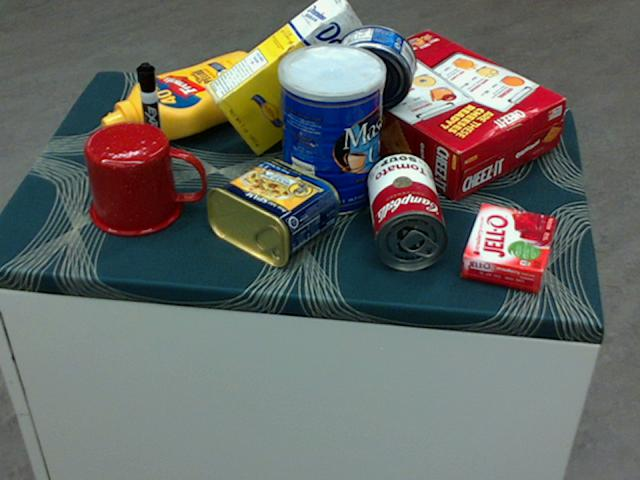cracker_box: (323, 28, 563, 201)
gelatin_box: (461, 203, 553, 290)
large_marker: (134, 62, 167, 169)
master_chef_can: (277, 44, 384, 217)
mug: (84, 120, 204, 237)
mustard_bottle: (99, 51, 273, 140)
potted_meat_can: (204, 158, 338, 267)
sugar_box: (201, 0, 383, 157)
tomato_soup_can: (368, 152, 446, 269)
tuna_fish_can: (331, 23, 416, 109)
